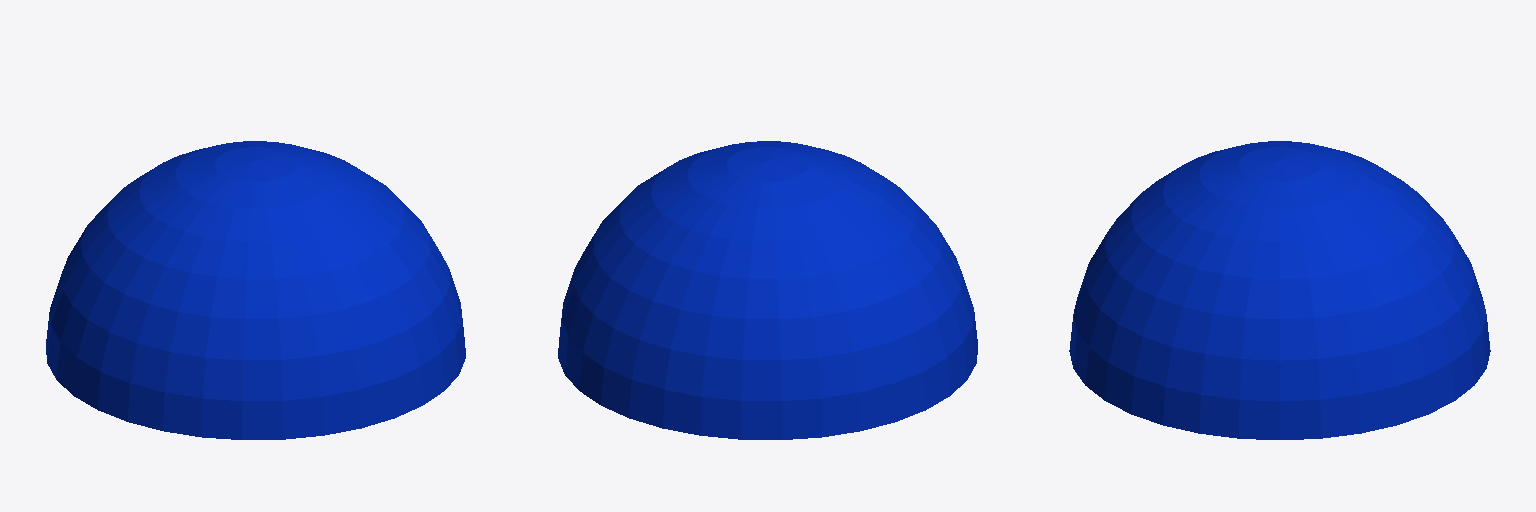
The model's file is kyrka3.obj.
The picture shows the model from 3 angles: view 1: azimuth 30°, elevation 25°; view 2: azimuth 150°, elevation 25°; view 3: azimuth 270°, elevation 25°; orthographic projection.
Parts seen in each view (by area): view 1: Sphere; view 2: Sphere; view 3: Sphere.
Part boxes in pixels (x1,y1,x2,y2): Sphere: (46, 141, 465, 439); Sphere: (558, 141, 977, 439); Sphere: (1069, 141, 1490, 439).
Size of the model in its own units: 40 by 20 by 40.